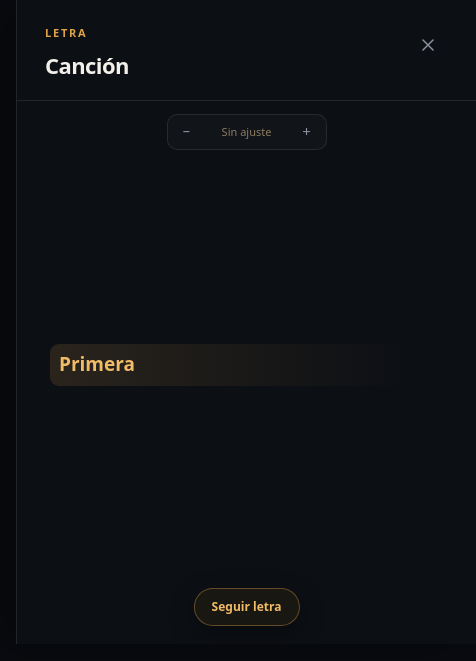
Test: LyricsPanelComponent › pauses automatic following after manual scroll and can resume it
The width and height of the screenshot is (476, 661).
Click the button with class "lyrics-follow": (246, 607) [194, 588, 299, 626]
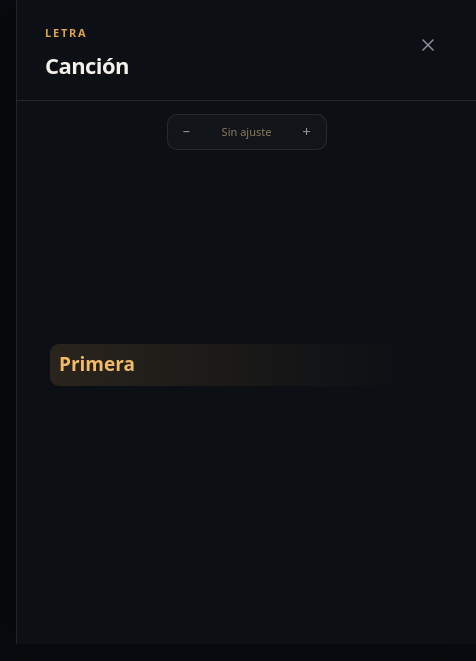
Result: the button with class "lyrics-follow" is gone
